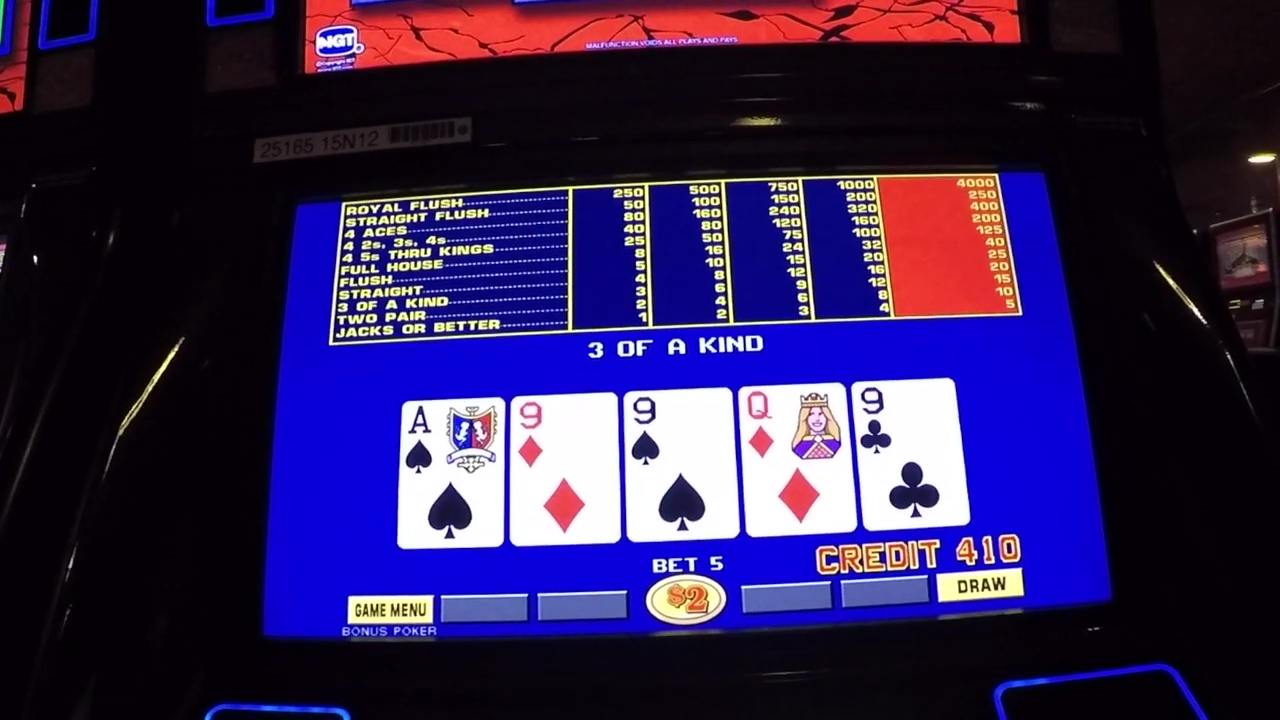C9: (854, 383, 959, 459)
D9: (511, 397, 615, 474)
DQ: (742, 386, 848, 462)
S9: (625, 390, 734, 465)
SA: (401, 401, 503, 475)
